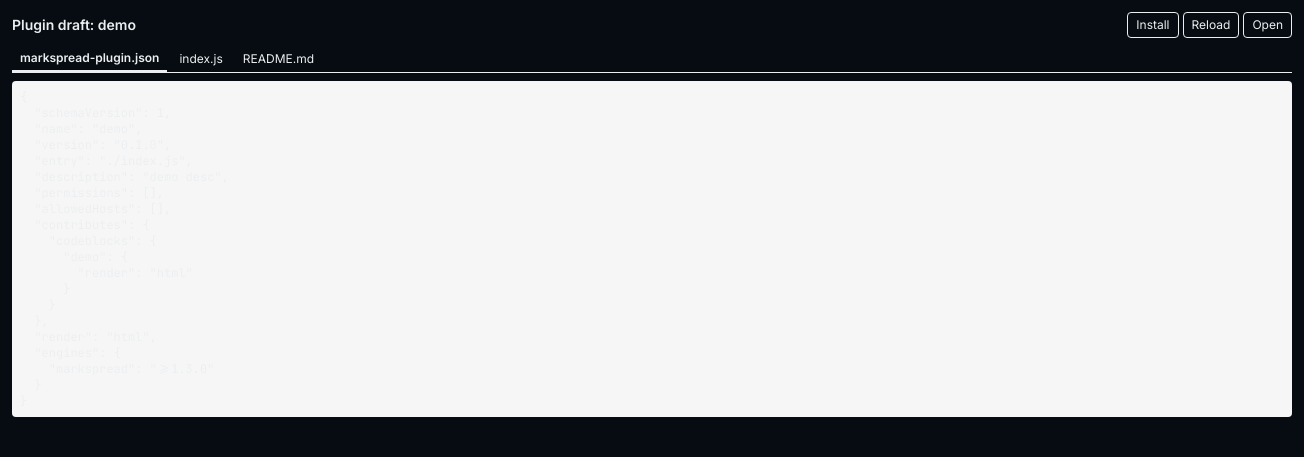
PluginAuthorPanel › Reload path: succeeds even when plugin is unknown to host
Click the button with test id "plugin-author-reload" at (1211, 25), box x1=1182 y1=12 x2=1239 y2=38
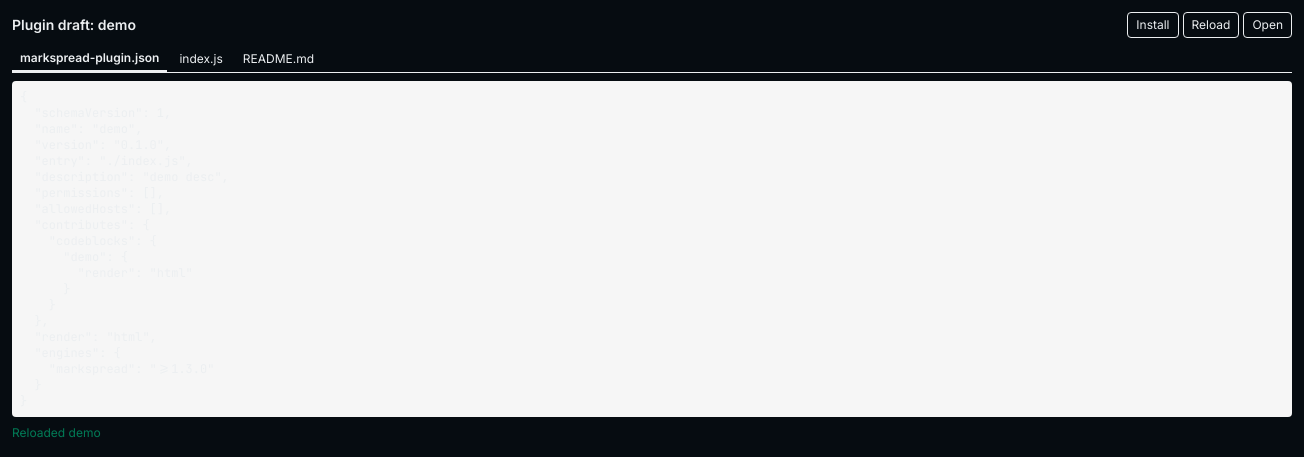
Now the text with test id "plugin-author-ok" shows "Reloaded", box x1=12 y1=425 x2=101 y2=440
